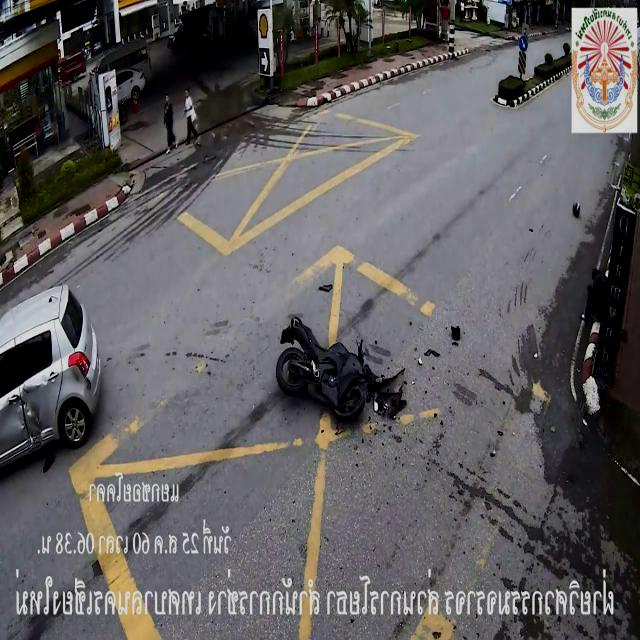accident: (1, 280, 460, 474)
